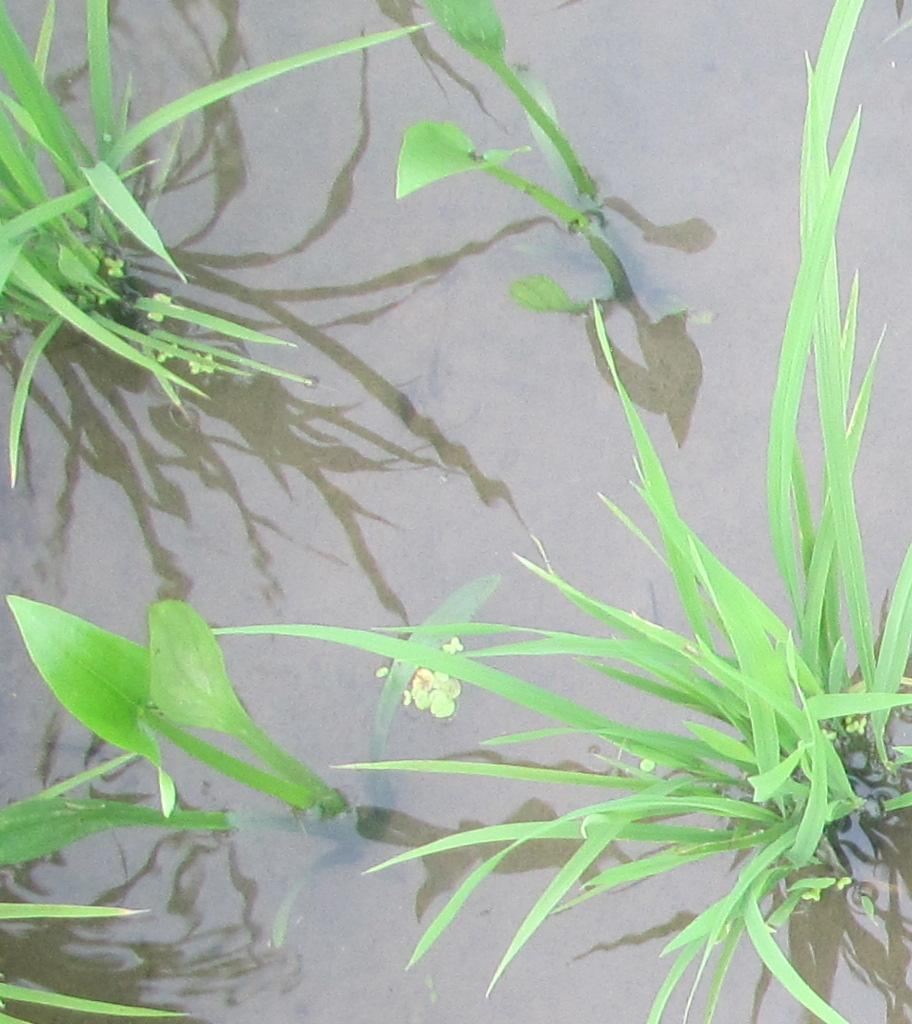Weed: (5, 592, 341, 825), (389, 3, 557, 207)
